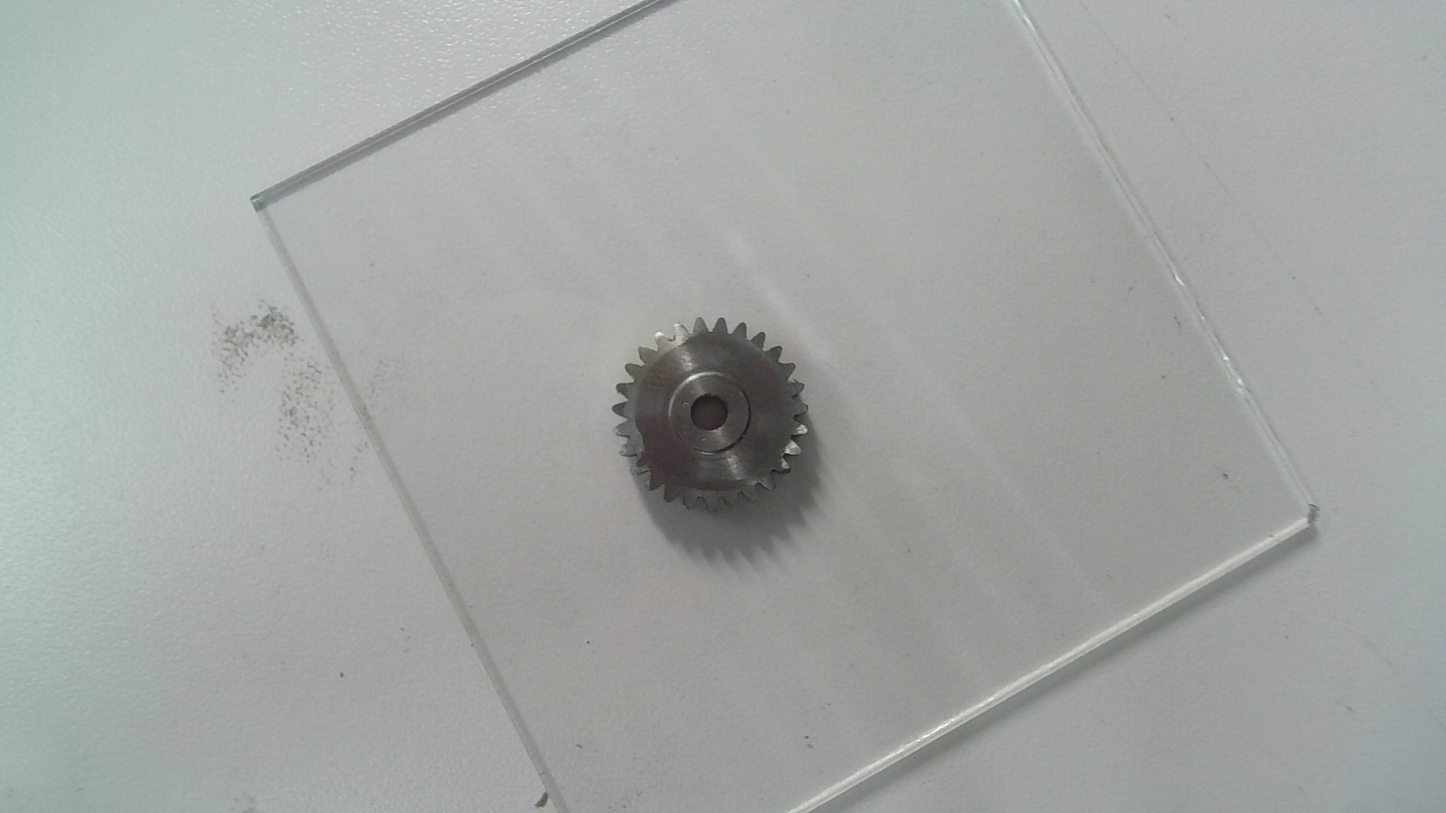gear: (610, 317, 815, 517)
